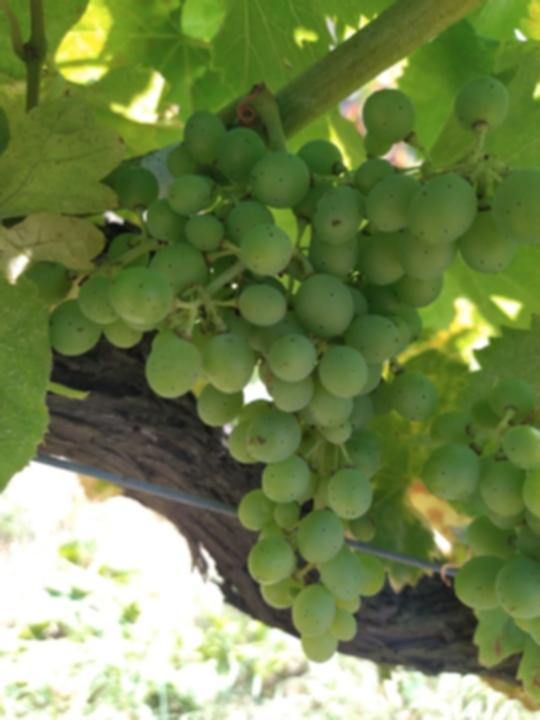grape: (22, 72, 534, 669)
